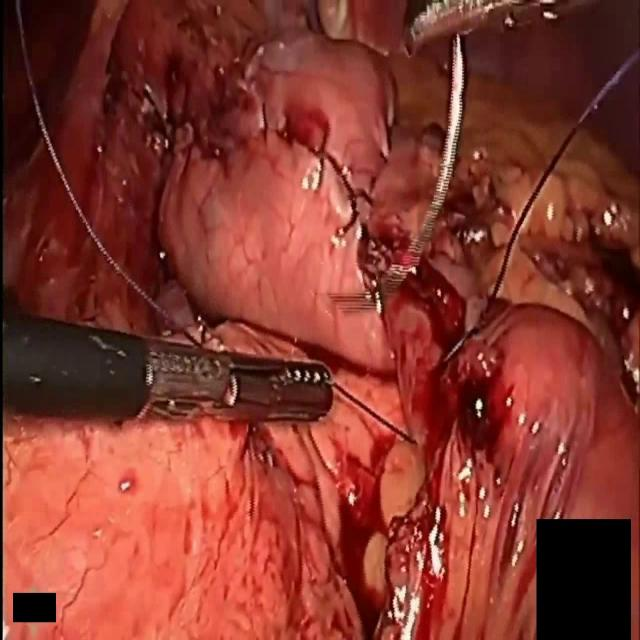surgical-tool: (0, 311, 335, 426), (406, 0, 612, 50)
